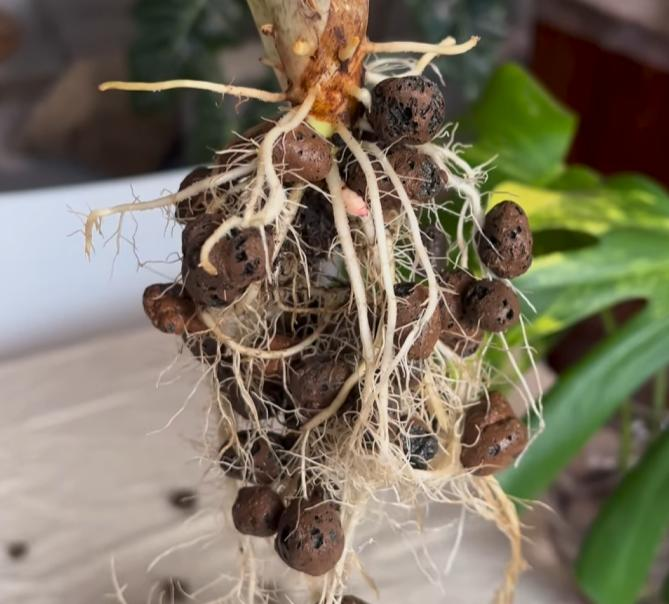root_rot: (119, 19, 609, 547)
